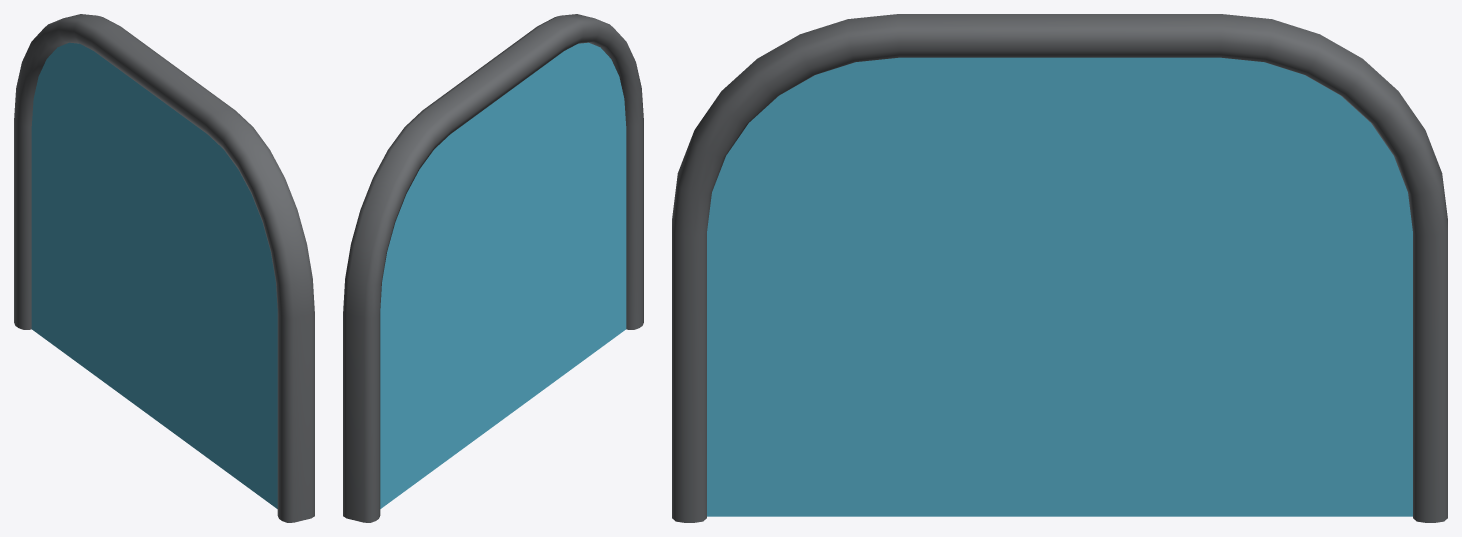
Rendered from ENV_FIN.fbx.
3 renders of one model, left to right at view 1: azimuth 30°, elevation 25°; view 2: azimuth 150°, elevation 25°; view 3: azimuth 270°, elevation 25°, orthographic. The views are drawn at different scales.
Visible parts, largest first — view 1: ENV_FIN_Glass_Whole, ENV_FIN_Frame, ENV_FIN_Glass_Whole_cell.004_cell, ENV_FIN_Glass_Whole_cell.014_cell.001_cell, ENV_FIN_Glass_Whole_cell.009_cell.003_cell, ENV_FIN_Glass_Whole_cell.006_cell, ENV_FIN_Glass_Whole_cell.005, ENV_FIN_Glass_Whole_cell.003_cell.001, ENV_FIN_Glass_Whole_cell.013, ENV_FIN_Glass_Broken, ENV_FIN_Glass_Whole_cell.014_cell, ENV_FIN_Glass_Whole_cell.009_cell.003_cell.001 (+1 smaller); view 2: ENV_FIN_Glass_Whole, ENV_FIN_Frame, ENV_FIN_Glass_Whole_cell.006_cell, ENV_FIN_Glass_Whole_cell.014_cell.001_cell, ENV_FIN_Glass_Broken, ENV_FIN_Glass_Whole_cell.004_cell, ENV_FIN_Glass_Whole_cell.003_cell.001, ENV_FIN_Glass_Whole_cell.005, ENV_FIN_Glass_Whole_cell.014_cell.001_cell.001, ENV_FIN_Glass_Whole_cell.013, ENV_FIN_Glass_Whole_cell.009_cell_cell, ENV_FIN_Glass_Whole_cell.009_cell_cell.001 (+4 smaller); view 3: ENV_FIN_Glass_Whole, ENV_FIN_Glass_Broken, ENV_FIN_Frame, ENV_FIN_Glass_Whole_cell.014_cell.001_cell, ENV_FIN_Glass_Whole_cell.004_cell, ENV_FIN_Glass_Whole_cell.008_cell, ENV_FIN_Glass_Whole_cell.014_cell.001_cell.001, ENV_FIN_Glass_Whole_cell.011_cell.001_cell.001, ENV_FIN_Glass_Whole_cell.003_cell.001, ENV_FIN_Glass_Whole_cell.011_cell_cell.002, ENV_FIN_Glass_Whole_cell.008_cell.001, ENV_FIN_Glass_Whole_cell.011_cell_cell.001 (+5 smaller).
Part boxes in pixels (x1,y1,x2,y2): ENV_FIN_Glass_Whole: (31, 43, 277, 508); ENV_FIN_Frame: (14, 14, 314, 522); ENV_FIN_Glass_Whole_cell.004_cell: (31, 101, 90, 255); ENV_FIN_Glass_Whole_cell.014_cell.001_cell: (31, 228, 79, 354); ENV_FIN_Glass_Whole_cell.009_cell.003_cell: (236, 361, 277, 508); ENV_FIN_Glass_Whole_cell.006_cell: (70, 43, 149, 169); ENV_FIN_Glass_Whole_cell.005: (33, 59, 80, 143); ENV_FIN_Glass_Whole_cell.003_cell.001: (149, 92, 179, 244); ENV_FIN_Glass_Whole_cell.013: (48, 42, 85, 131); ENV_FIN_Glass_Broken: (72, 166, 275, 315); ENV_FIN_Glass_Whole_cell.014_cell: (118, 381, 181, 436); ENV_FIN_Glass_Whole_cell.009_cell.003_cell.001: (248, 281, 277, 403); ENV_FIN_Glass_Whole: (380, 42, 626, 508); ENV_FIN_Frame: (343, 14, 643, 522); ENV_FIN_Glass_Whole_cell.006_cell: (416, 106, 493, 256); ENV_FIN_Glass_Whole_cell.014_cell.001_cell: (380, 359, 446, 508); ENV_FIN_Glass_Broken: (415, 73, 624, 381); ENV_FIN_Glass_Whole_cell.004_cell: (380, 263, 440, 405); ENV_FIN_Glass_Whole_cell.003_cell.001: (493, 90, 515, 299); ENV_FIN_Glass_Whole_cell.005: (383, 225, 443, 279); ENV_FIN_Glass_Whole_cell.014_cell.001_cell.001: (446, 320, 508, 457); ENV_FIN_Glass_Whole_cell.013: (396, 180, 442, 258); ENV_FIN_Glass_Whole_cell.009_cell_cell: (511, 262, 570, 312); ENV_FIN_Glass_Whole_cell.009_cell_cell.001: (523, 130, 603, 269); ENV_FIN_Glass_Whole: (707, 57, 1412, 516); ENV_FIN_Glass_Broken: (710, 57, 1407, 516); ENV_FIN_Frame: (672, 14, 1447, 522); ENV_FIN_Glass_Whole_cell.014_cell.001_cell: (1210, 374, 1412, 516); ENV_FIN_Glass_Whole_cell.004_cell: (1225, 192, 1412, 373); ENV_FIN_Glass_Whole_cell.008_cell: (1081, 57, 1301, 225); ENV_FIN_Glass_Whole_cell.014_cell.001_cell.001: (1025, 374, 1242, 516); ENV_FIN_Glass_Whole_cell.011_cell.001_cell.001: (707, 388, 964, 516); ENV_FIN_Glass_Whole_cell.003_cell.001: (977, 57, 1081, 374); ENV_FIN_Glass_Whole_cell.011_cell_cell.002: (707, 212, 919, 352); ENV_FIN_Glass_Whole_cell.008_cell.001: (1078, 124, 1222, 331); ENV_FIN_Glass_Whole_cell.011_cell_cell.001: (707, 288, 831, 470).
Size of the model in its own units: 65.88 by 700 by 1000.
